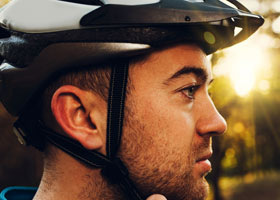helmet: (1, 1, 264, 199)
